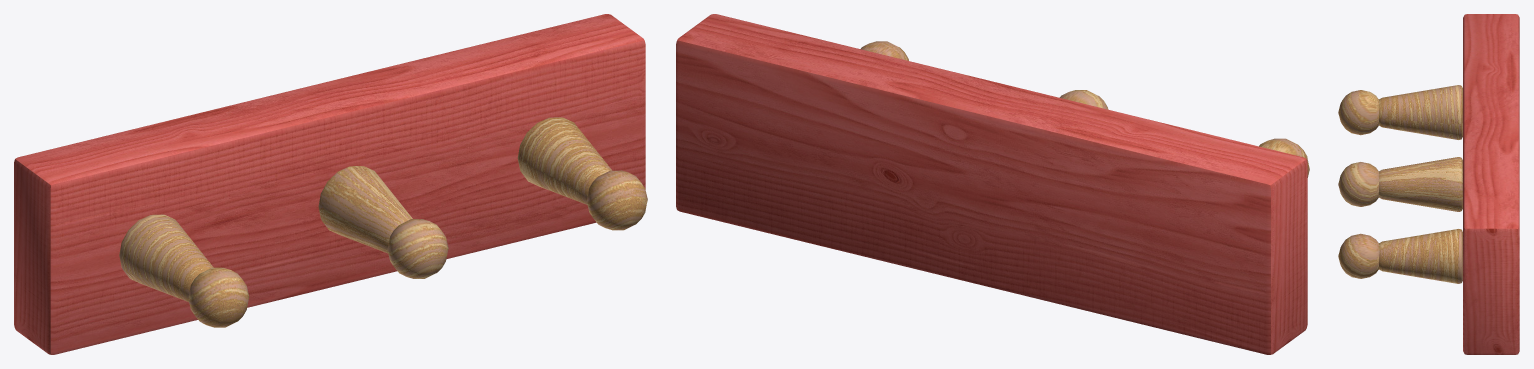
The model's file is peggy.glb.
3 renders of one model, left to right at view 1: azimuth 30°, elevation 25°; view 2: azimuth 150°, elevation 25°; view 3: azimuth 270°, elevation 25°, orthographic. The views are drawn at different scales.
Parts seen in each view (by area): view 1: Shef_2, Peg_13_2, Peg_11_2, Peg_12_2; view 2: Shef_2, Peg_13_2, Peg_11_2, Peg_12_2; view 3: Shef_2, Peg_11_2, Peg_13_2, Peg_12_2.
Part boxes in pixels (x1,y1,x2,y2): Shef_2: (14, 14, 645, 354); Peg_13_2: (119, 214, 249, 327); Peg_11_2: (517, 117, 647, 230); Peg_12_2: (318, 166, 448, 278); Shef_2: (676, 14, 1307, 354); Peg_13_2: (1259, 138, 1309, 177); Peg_11_2: (860, 41, 908, 60); Peg_12_2: (1059, 90, 1108, 109); Shef_2: (1463, 14, 1519, 354); Peg_11_2: (1338, 229, 1462, 283); Peg_13_2: (1338, 85, 1462, 139); Peg_12_2: (1338, 157, 1462, 211).
Bounding box in the file's own units: 1.65 × 0.4596 × 0.5882.
2 materials, 2 textured.
